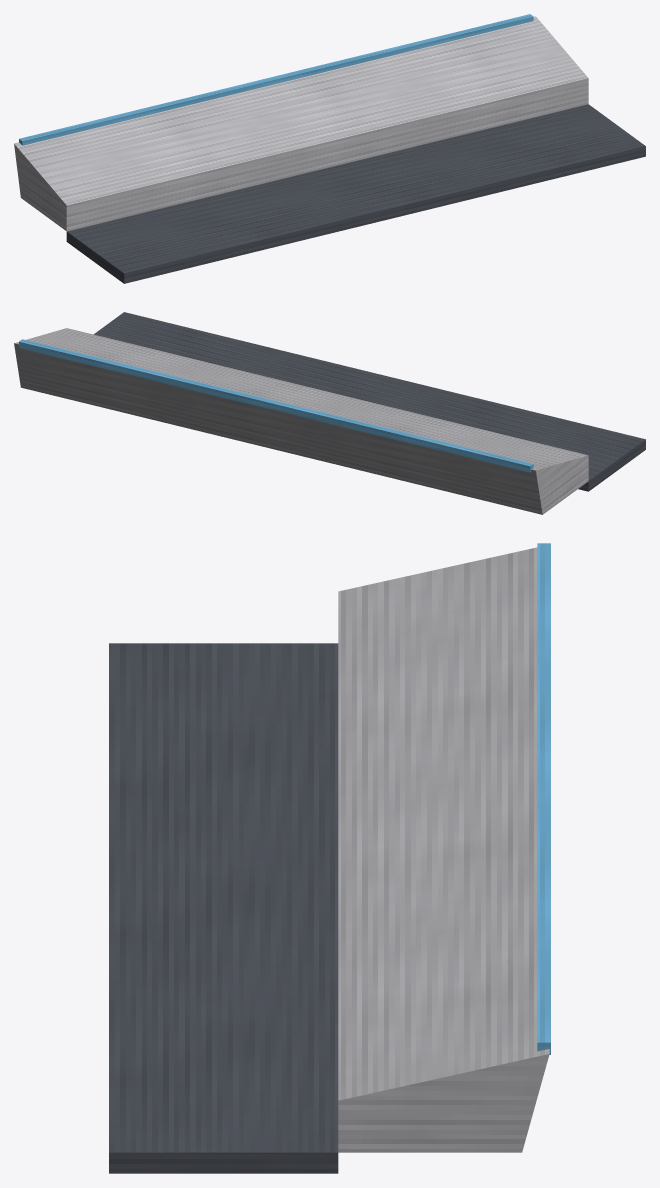
The model's file is aerofolio_n1.glb.
3 views of the same model, one above another, from view 1: azimuth 30°, elevation 25°; view 2: azimuth 150°, elevation 25°; view 3: azimuth 270°, elevation 25° (orthographic). The views are drawn at different scales.
Parts seen in each view (by area): view 1: aerofolio_n1; view 2: aerofolio_n1; view 3: aerofolio_n1.
Boxes of the visible parts, x1,y1,x2,y2 form: aerofolio_n1: (14,14,645,283); aerofolio_n1: (14,312,645,514); aerofolio_n1: (109,543,550,1173).
Size of the model in its own units: 1.05 by 0.121 by 0.3852.
2 materials, 2 textured.
